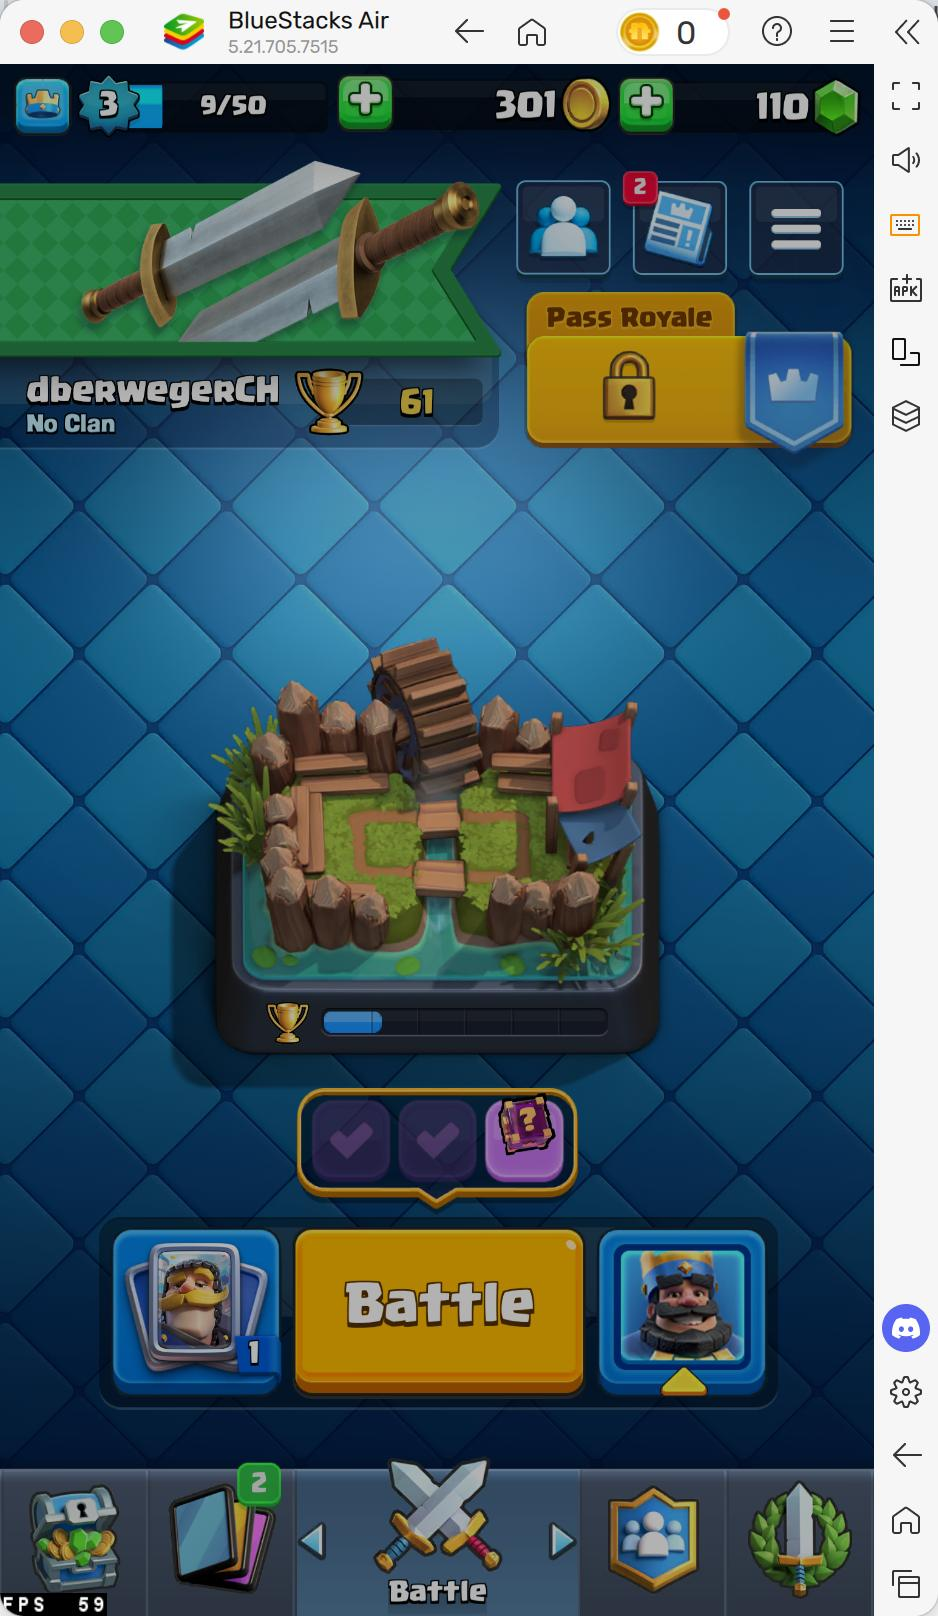Battle: (295, 1228, 584, 1396)
